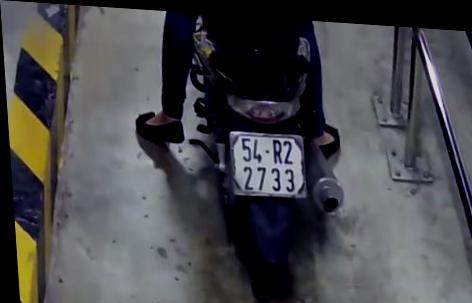License_Plate: (219, 126, 315, 211)
